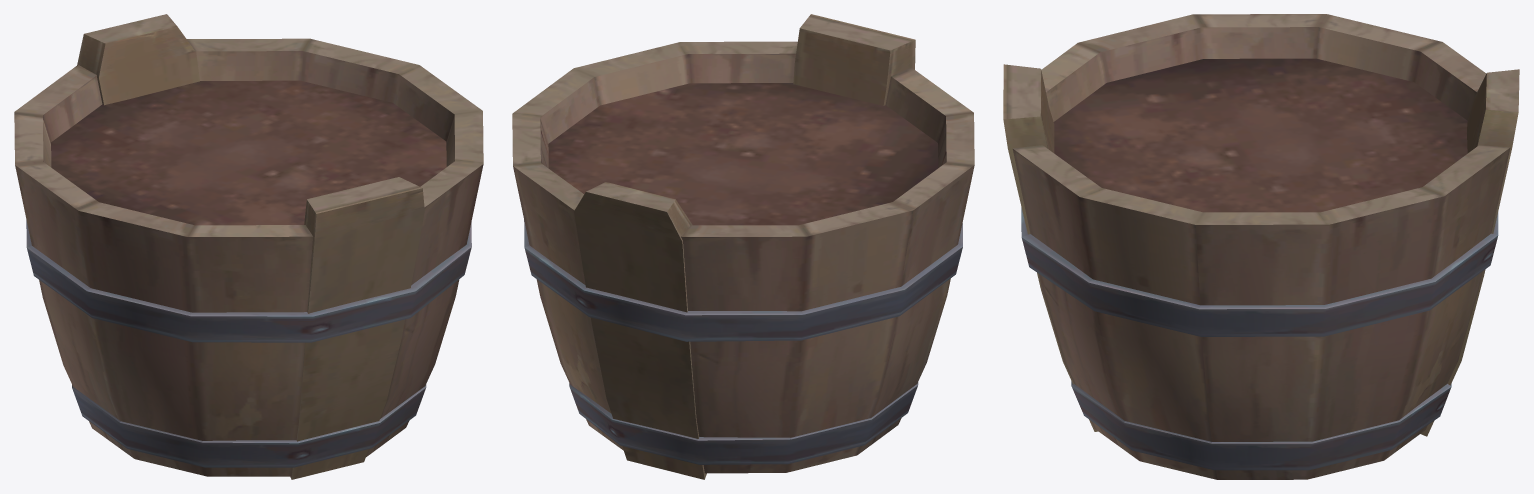
File: Homeworld_Exterior_Common_Decoration_Flowerpot_01_Vo.fbx
3 renders of one model, left to right at view 1: azimuth 30°, elevation 25°; view 2: azimuth 150°, elevation 25°; view 3: azimuth 270°, elevation 25°, orthographic. The views are drawn at different scales.
Parts seen in each view (by area): view 1: Area_MdProps_Woodenbasin03_Vo; view 2: Area_MdProps_Woodenbasin03_Vo; view 3: Area_MdProps_Woodenbasin03_Vo.
Part boxes in pixels (x1=…): Area_MdProps_Woodenbasin03_Vo: x1=14, y1=14, x2=483, y2=479; Area_MdProps_Woodenbasin03_Vo: x1=512, y1=14, x2=974, y2=479; Area_MdProps_Woodenbasin03_Vo: x1=1003, y1=14, x2=1519, y2=479.
Size of the model in its own units: 0.6086 by 0.4364 by 0.6293.
